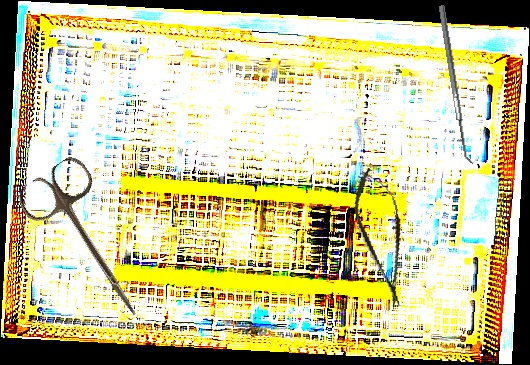Iris Scissors: (12, 152, 170, 334)
Micro Scissor: (346, 164, 419, 311)
Spatula Surgical: (438, 4, 476, 165)
